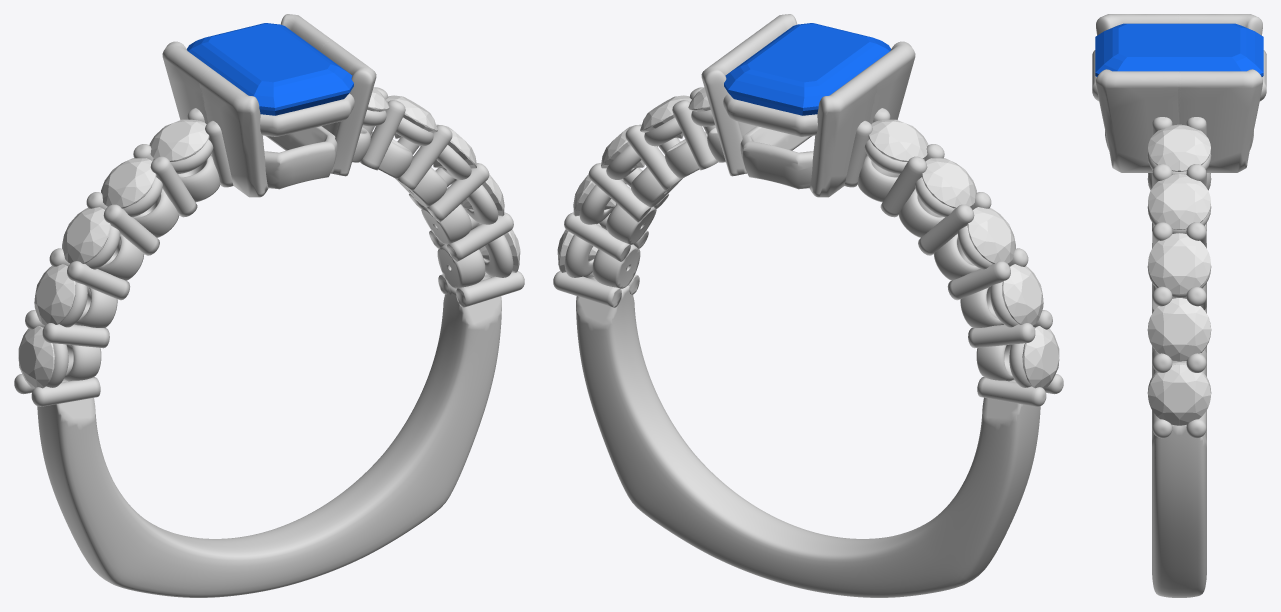
File: bluesapphire-emerald-platinum-halfmoonbezel-europeanshank-11stone.glb
3 views of the same model, side by side, from view 1: azimuth 30°, elevation 25°; view 2: azimuth 150°, elevation 25°; view 3: azimuth 270°, elevation 25° (orthographic).
Visible parts, largest first — view 1: metal.003, stone.002, side.024, side.025, side.023, side.026, side.002, side.028; view 2: metal.003, stone.002, side.024, side.025, side.023, side.026, side.002, side.028; view 3: metal.003, stone.002, side.030, side.031, side.029, side.028, side.027.
Part boxes in pixels (x1,y1,x2,y2): metal.003: (14,14,524,597); stone.002: (187,23,353,115); side.024: (62,207,110,263); side.025: (101,158,156,208); side.023: (34,264,75,325); side.026: (149,119,209,161); side.002: (18,326,55,388); side.028: (386,95,437,138); metal.003: (553,14,1063,597); stone.002: (724,23,890,115); side.024: (967,207,1015,263); side.025: (921,158,976,208); side.023: (1002,264,1043,325); side.026: (868,119,928,161); side.002: (1022,326,1059,388); side.028: (640,95,691,138); metal.003: (1092,14,1266,597); stone.002: (1095,23,1263,76); side.030: (1148,298,1210,360); side.031: (1148,364,1210,425); side.029: (1148,233,1210,294); side.028: (1148,174,1210,229); side.027: (1148,124,1210,171).
Bounding box in the file's own units: 22.03 × 22.74 × 6.94.
